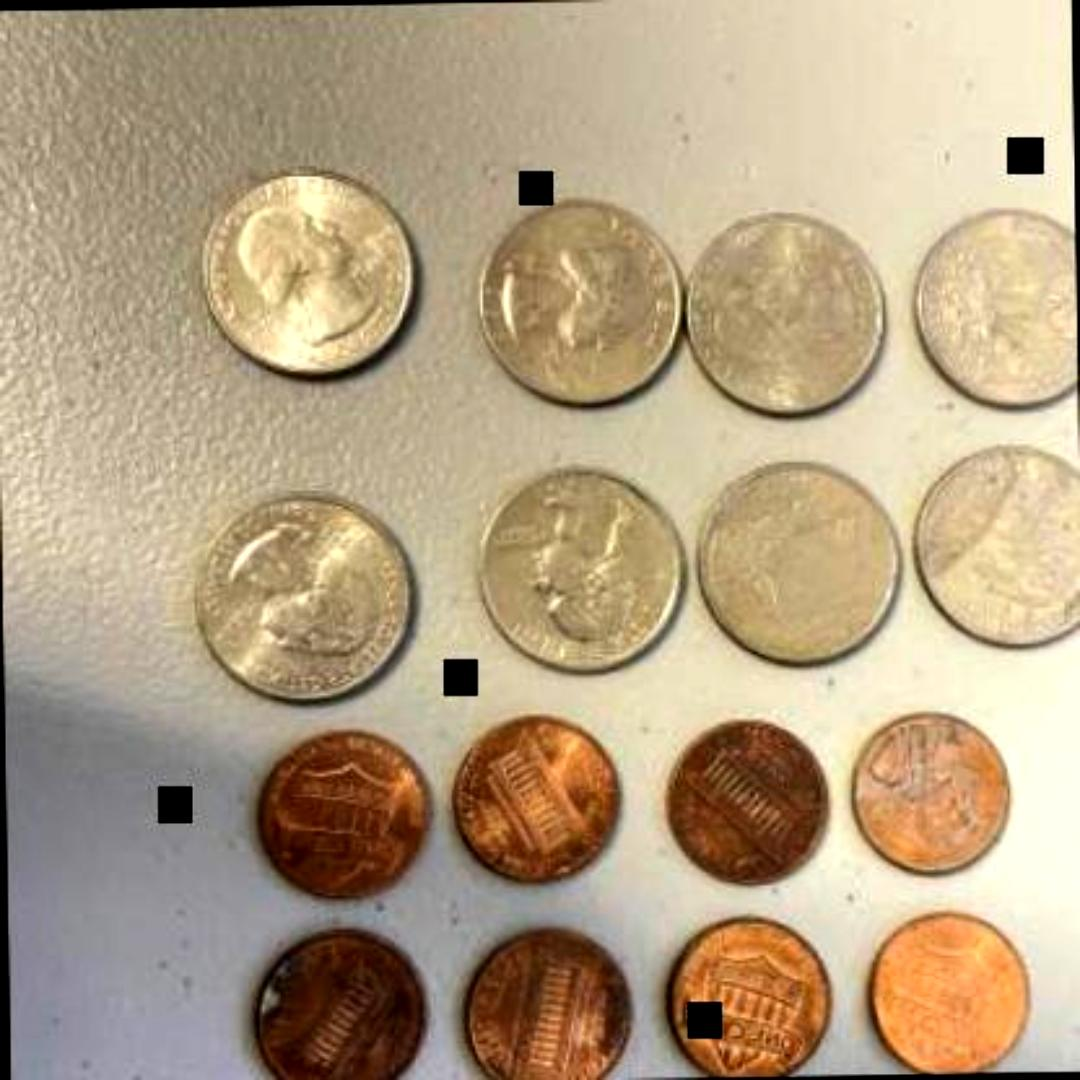Penny: (658, 915, 842, 1078), (664, 716, 840, 884), (449, 710, 625, 878), (256, 727, 432, 895), (842, 709, 1016, 877), (460, 922, 636, 1080), (866, 912, 1036, 1074), (252, 926, 428, 1080)
Quarter: (196, 162, 422, 380), (189, 486, 414, 698), (694, 456, 910, 668), (473, 460, 688, 672), (479, 193, 684, 405), (684, 210, 894, 415), (912, 441, 1080, 646), (915, 206, 1078, 412)
